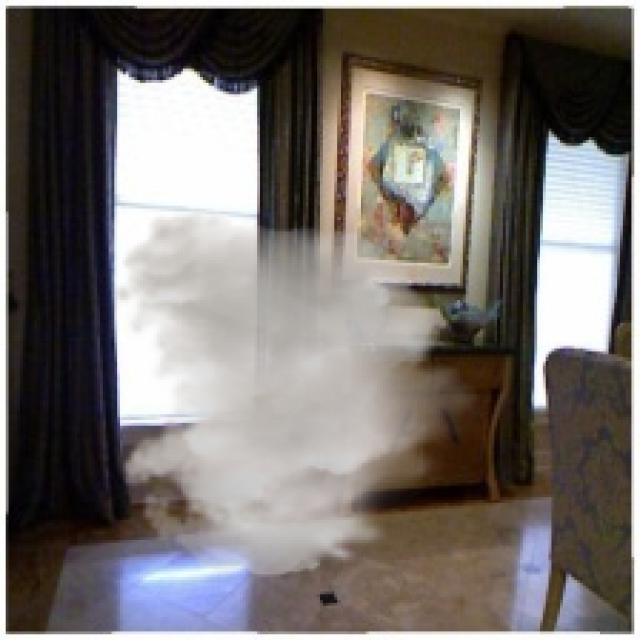smoke: (108, 212, 486, 577)
